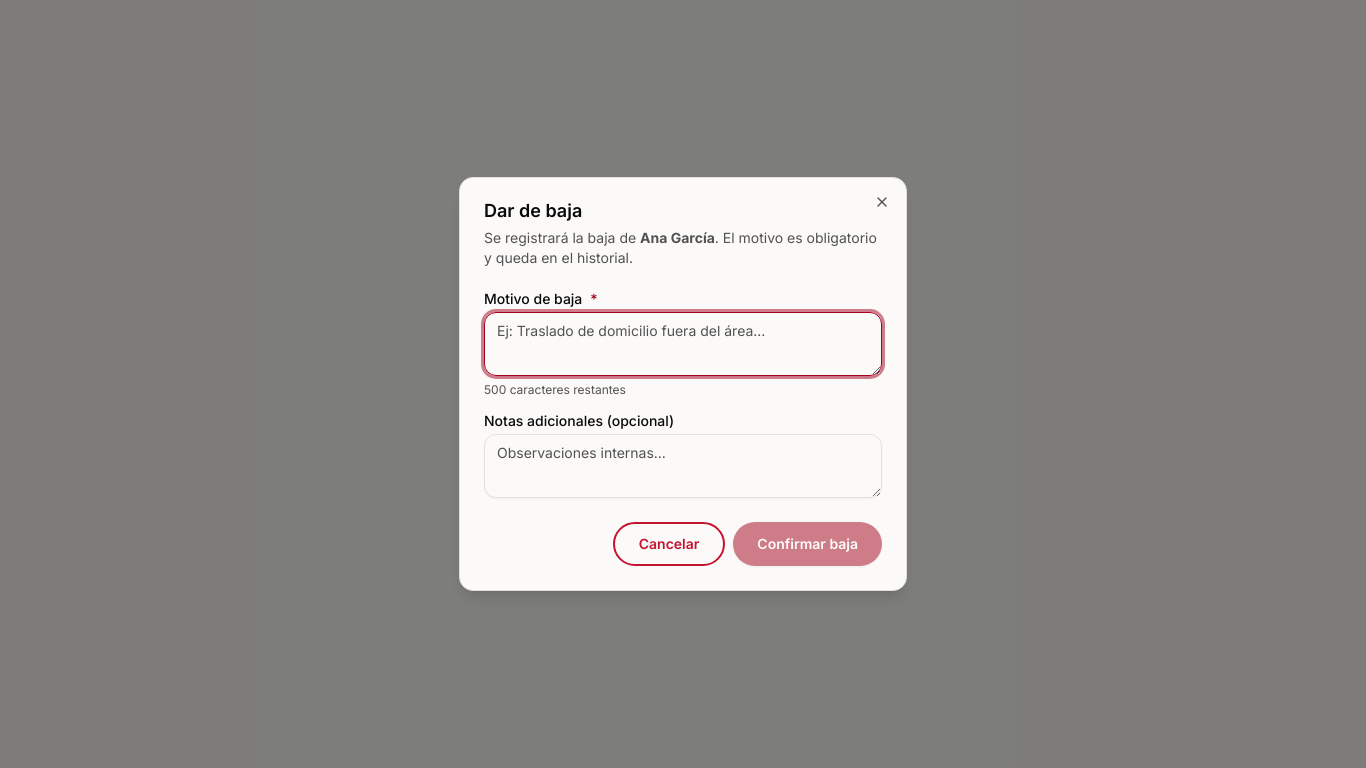
it: BajaDialog — confirm button disabled without motivo › confirm button becomes enabled after entering motivo
The width and height of the screenshot is (1366, 768).
Type "Traslado de domicilio" into the text box with id "baja-motivo" at (683,344), box [484,312,882,376]
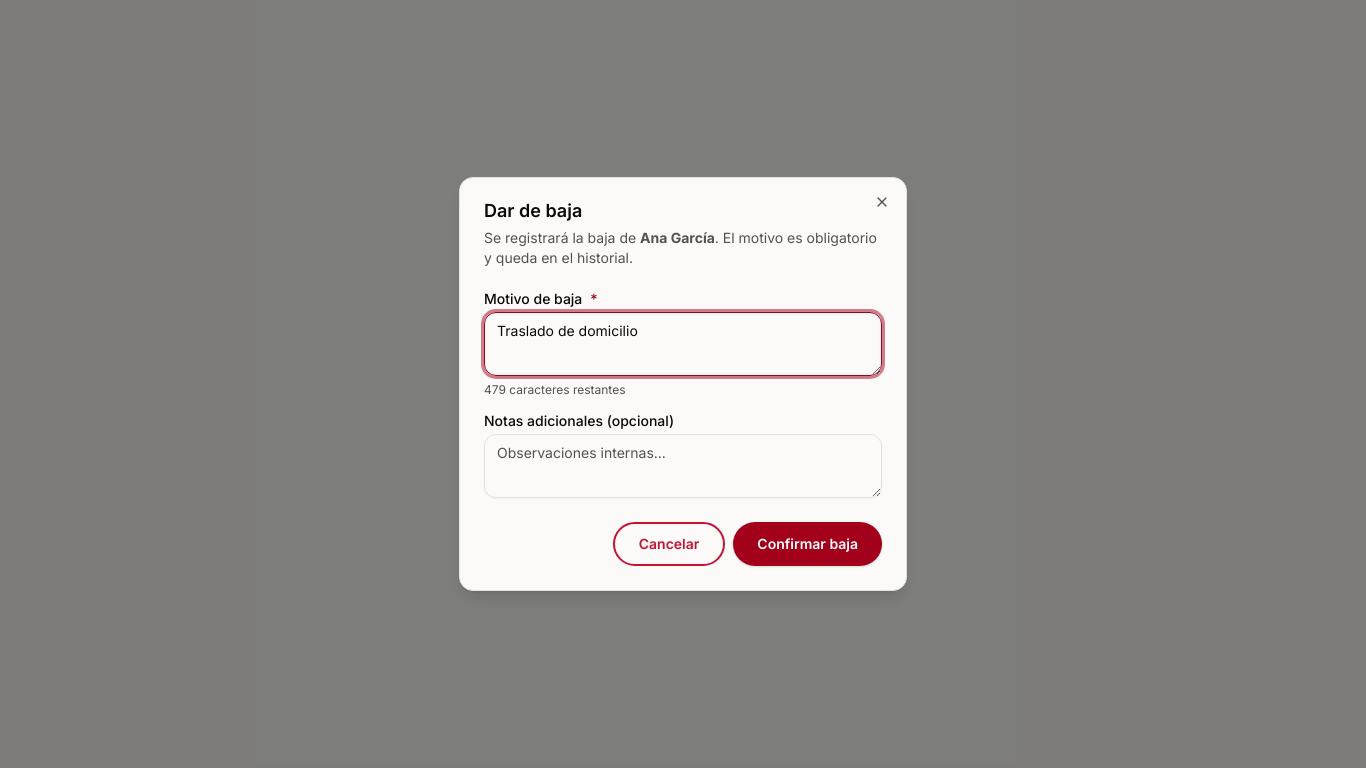
Result: the button "Confirmar baja" is enabled at [733,522,882,566]
